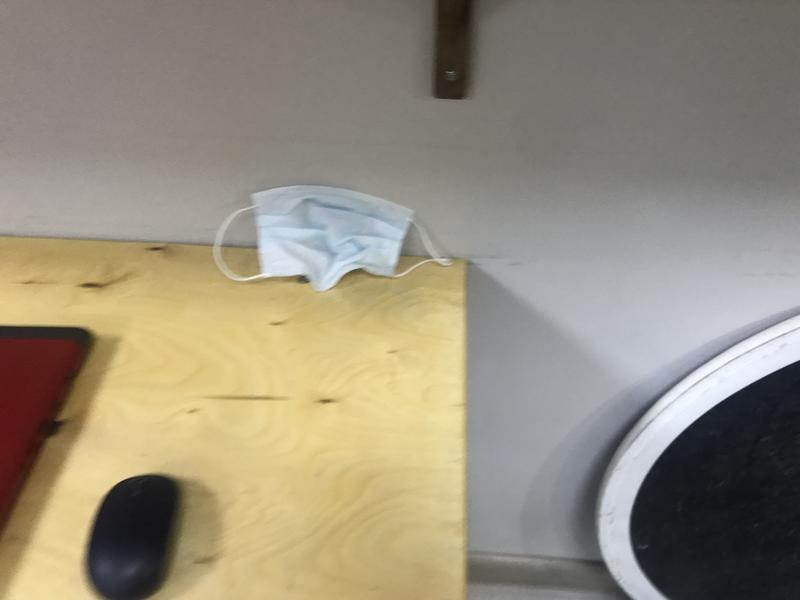medical_mask: (215, 186, 453, 292)
